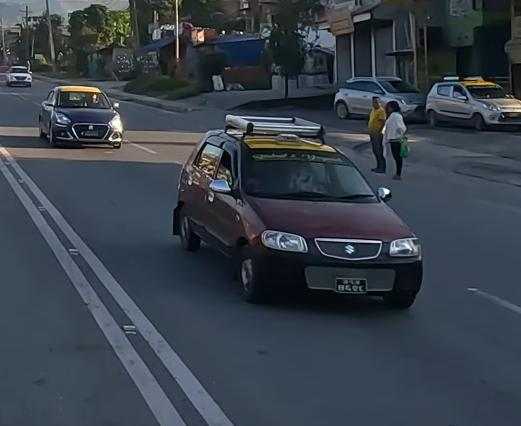car: (332, 74, 428, 124), (4, 64, 35, 87)
taxi: (163, 106, 436, 316), (31, 81, 132, 149), (427, 75, 521, 133)
